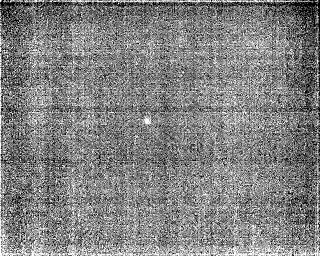BIRD: (142, 114, 153, 127)
